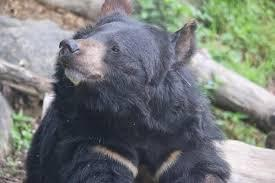bear: (26, 0, 233, 183)
